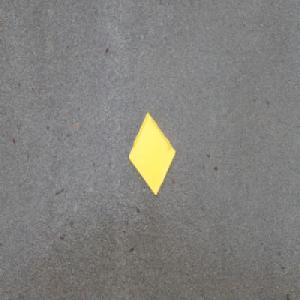PlasticPart: (128, 110, 176, 196)
